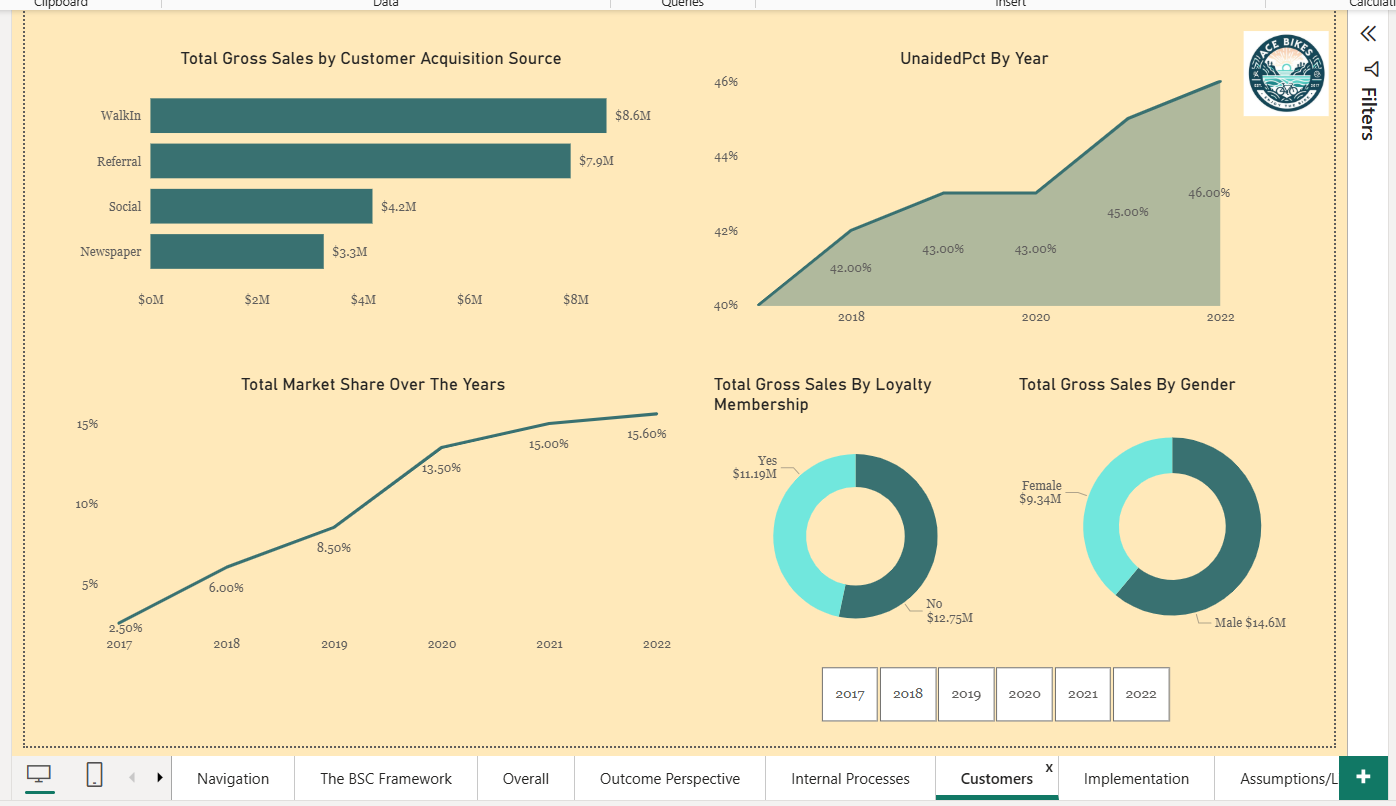

This screenshot's page, from the dashboard's own definition file:
{"tool":"powerbi","page":{"name":"Customers ","canvas":[1280,720],"ordinal":5},"visuals":[{"type":"donutChart","title":"Total Gross Sales By Loyalty Membership","fields":{"Category":["SalesbyLocationbyMonthbyCategory.LoyaltyMember"],"Y":["SalesbyLocationbyMonthbyCategory.Total Gross Sales"]},"box":[669.4,355.6,287.4,280],"z":0},{"type":"barChart","title":"Total Gross Sales by Customer Acquisition Source","fields":{"Category":["SalesbyLocationbyMonthbyCategory.Source"],"Y":["SalesbyLocationbyMonthbyCategory.Total Gross Sales"]},"box":[37.9,36.7,601.6,262.9],"z":1000},{"type":"lineChart","title":"Total Market Share Over The Years","fields":{"Category":["Research.Year"],"Y":["Sum(Research.MarketShare)"]},"box":[44.5,355.6,593.1,280],"z":2000},{"type":"stackedAreaChart","title":"UnaidedPct By Year","fields":{"Category":["Research.Year"],"Y":["Sum(Research.UnaidedPct)"]},"box":[668.9,36.7,519.7,280],"z":3000},{"type":"image","box":[1187.4,11,92.9,102.7],"z":4000},{"type":"slicer","fields":{"Values":["Filter Control.Year"]},"box":[753.3,635.9,390.1,67.3],"z":5000},{"type":"donutChart","title":"Total Gross Sales By Gender","fields":{"Category":["SalesbyLocationbyMonthbyCategory.gender"],"Y":["SalesbyLocationbyMonthbyCategory.Total Gross Sales"]},"box":[967.7,355.6,310.6,280],"z":6000}]}

Visuals, with their boxes on the page's 1280x720 design canvas (x1, y1, x2, y2). These are canvas units, not pixel positions in the 1396x806 screenshot, which may show the page scaled, cropped or inside an application window:
"Total Gross Sales By Loyalty Membership" donutChart: <region>669, 356, 957, 636</region>
"Total Gross Sales by Customer Acquisition Source" barChart: <region>38, 37, 640, 300</region>
"Total Market Share Over The Years" lineChart: <region>44, 356, 638, 636</region>
"UnaidedPct By Year" stackedAreaChart: <region>669, 37, 1189, 317</region>
image: <region>1187, 11, 1280, 114</region>
slicer - Filter Control.Year: <region>753, 636, 1143, 703</region>
"Total Gross Sales By Gender" donutChart: <region>968, 356, 1278, 636</region>
